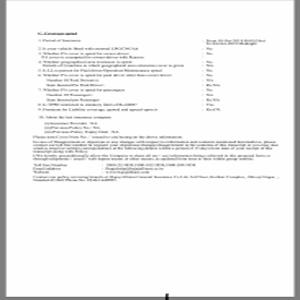text: (30, 31, 268, 139), (31, 140, 281, 186)
